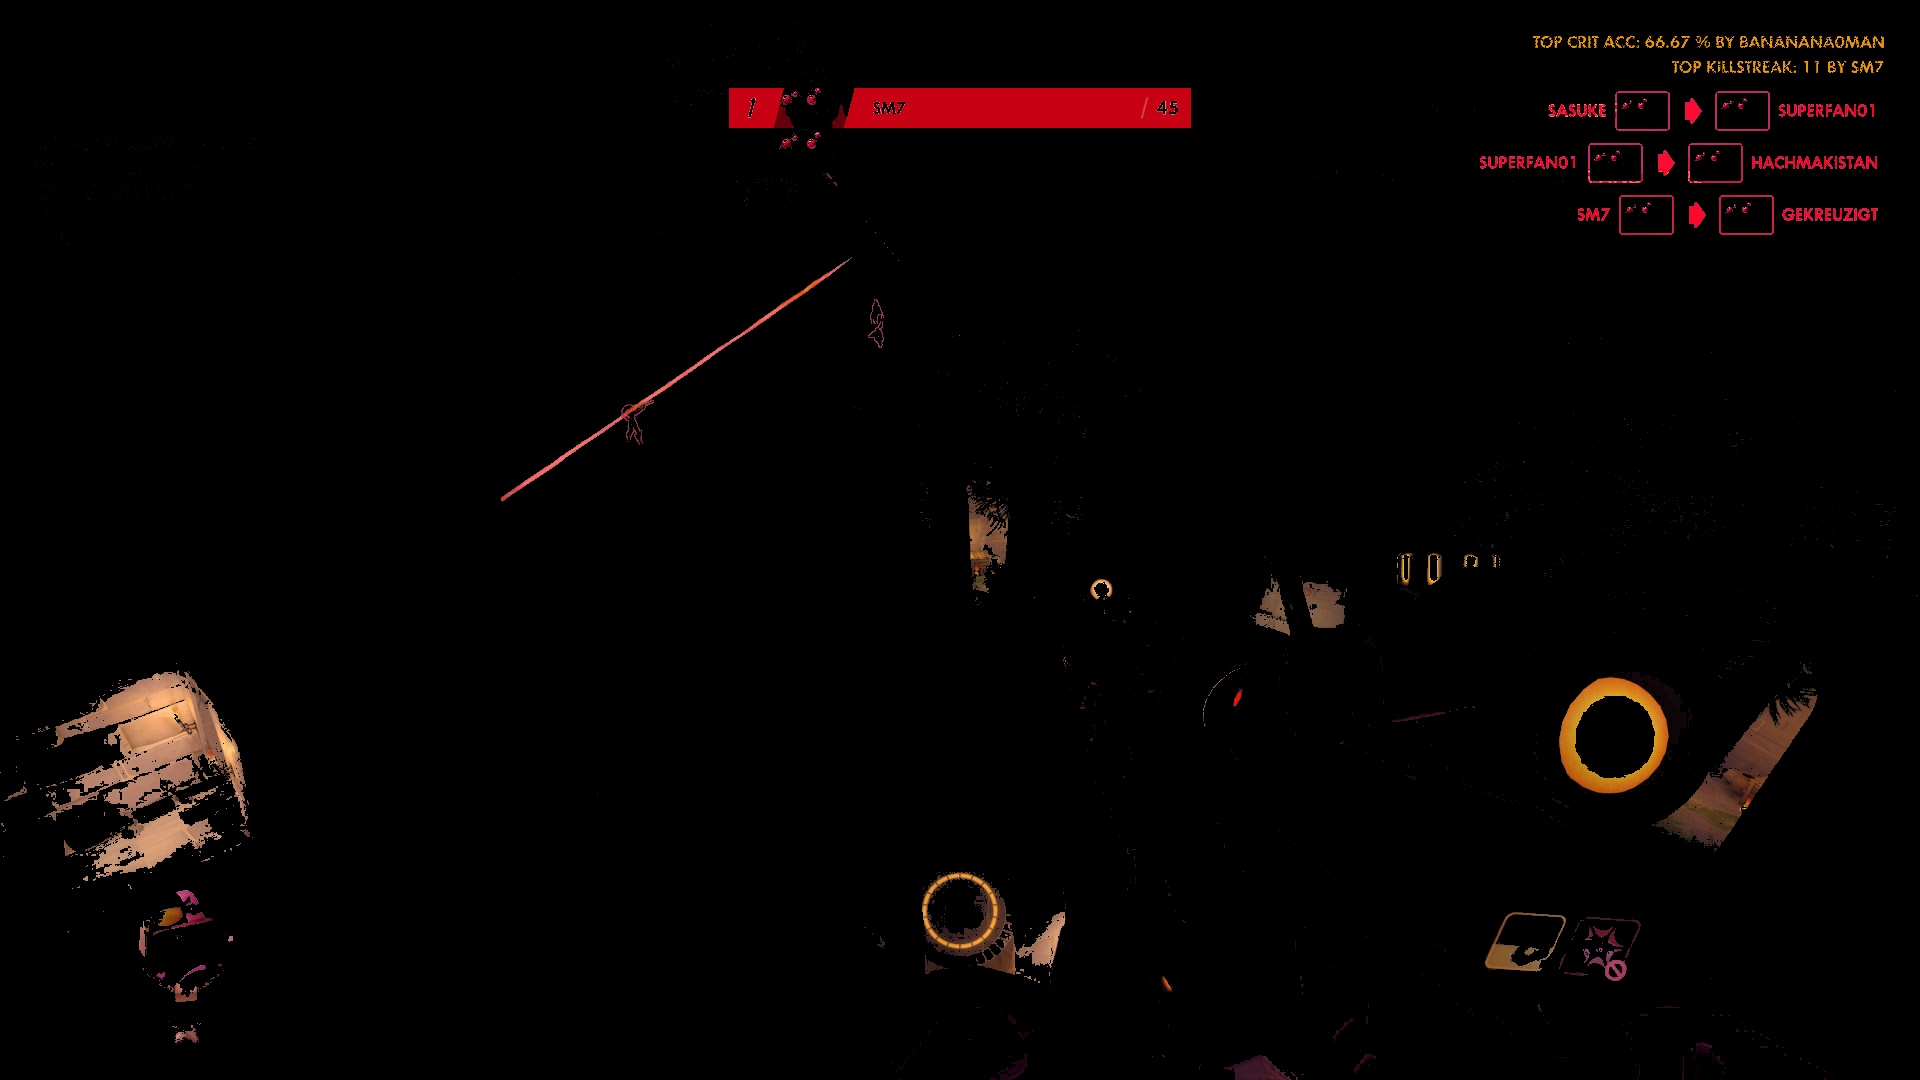widowmaker: (618, 402, 653, 451), (866, 324, 885, 349), (866, 299, 884, 324)
